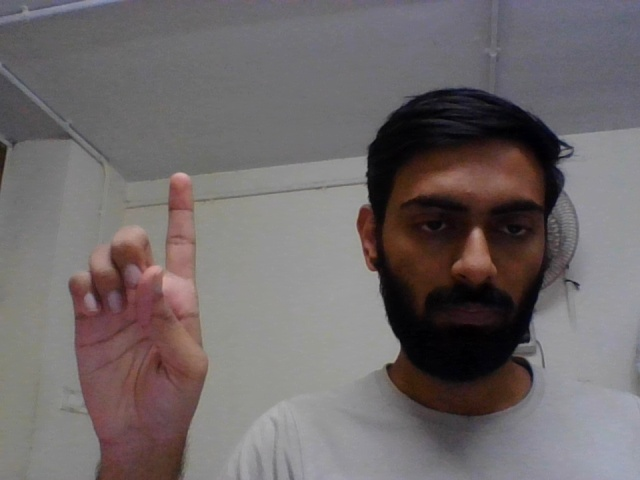D: (60, 168, 218, 462)
